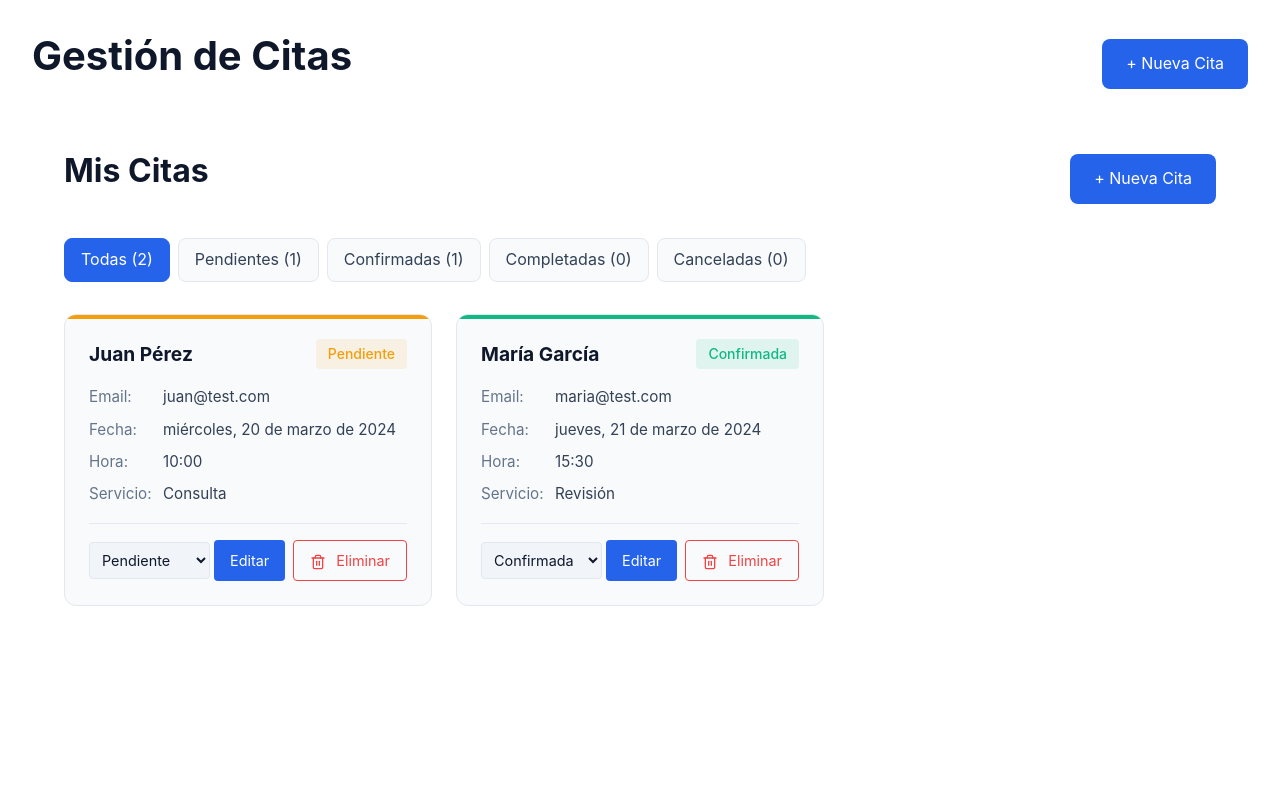
Scenario: Flujo de Citas › debe filtrar citas por estado
Expected: the heading "Juan Pérez" is shown, [89, 343, 193, 366]
Click the button "Confirmadas (1)" at (404, 260), box [327, 238, 480, 282]
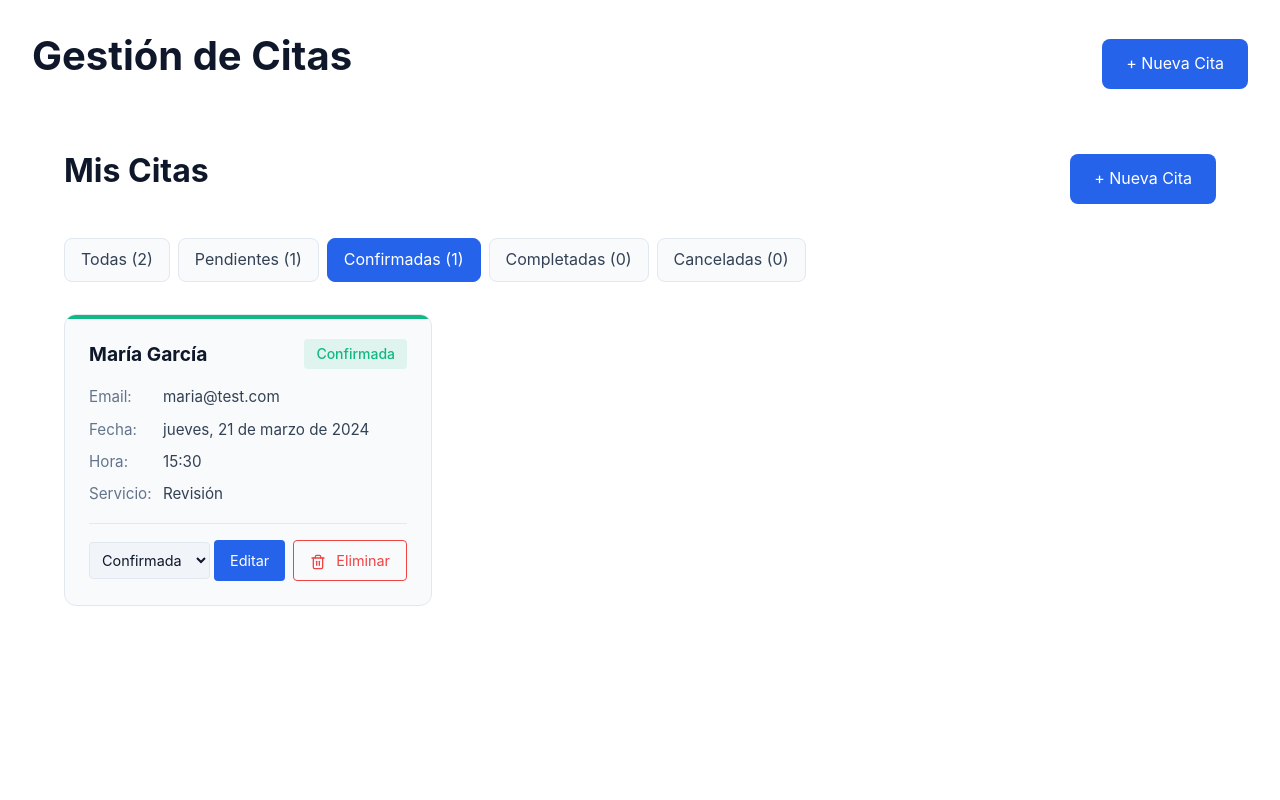
Expected: the heading "María García" is shown, [89, 343, 207, 366]
Expected: the heading "Juan Pérez" is gone
